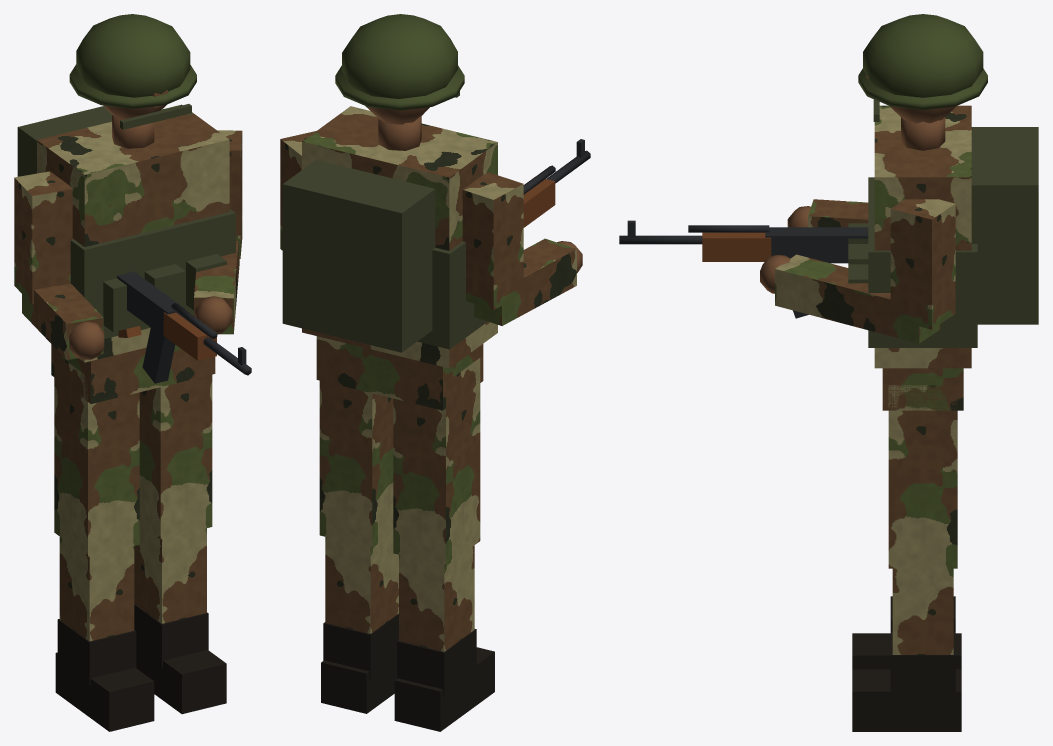
File: soldier_army.glb
3 renders of one model, left to right at view 1: azimuth 30°, elevation 25°; view 2: azimuth 150°, elevation 25°; view 3: azimuth 270°, elevation 25°, orthographic.
Parts seen in each view (by area): view 1: Torso, LegR, LegL, ArmR, Head, Rifle, Pelvis, ArmL; view 2: Torso, LegR, LegL, ArmR, Head, Pelvis, Rifle, ArmL; view 3: Torso, LegL, ArmL, Head, Rifle, Pelvis, ArmR, LegR.
Boxes of the visible parts, left/top/right/bottom form: Torso: left=17, top=104, right=235, bottom=362; LegR: left=54, top=352, right=154, bottom=731; LegL: left=134, top=374, right=226, bottom=714; ArmR: left=14, top=171, right=104, bottom=359; Head: left=69, top=14, right=196, bottom=129; Rifle: left=117, top=271, right=251, bottom=383; Pelvis: left=51, top=344, right=215, bottom=403; ArmL: left=194, top=130, right=242, bottom=334; Torso: left=282, top=106, right=497, bottom=368; LegR: left=393, top=358, right=494, bottom=731; LegL: left=319, top=380, right=398, bottom=713; ArmR: left=462, top=172, right=582, bottom=325; Head: left=335, top=14, right=464, bottom=124; Pelvis: left=316, top=336, right=483, bottom=410; Rifle: left=523, top=139, right=590, bottom=227; ArmL: left=280, top=131, right=315, bottom=250; Torso: left=848, top=105, right=1038, bottom=368; LegL: left=852, top=385, right=961, bottom=731; ArmL: left=760, top=199, right=955, bottom=343; Head: left=858, top=14, right=987, bottom=123; Rifle: left=619, top=220, right=868, bottom=318; Pelvis: left=882, top=368, right=963, bottom=410; ArmR: left=787, top=199, right=868, bottom=227; LegR: left=852, top=596, right=961, bottom=669.
Size of the model in its own units: 0.6769 by 1.86 by 1.03.
Materials: 7 (1 with a texture image).
